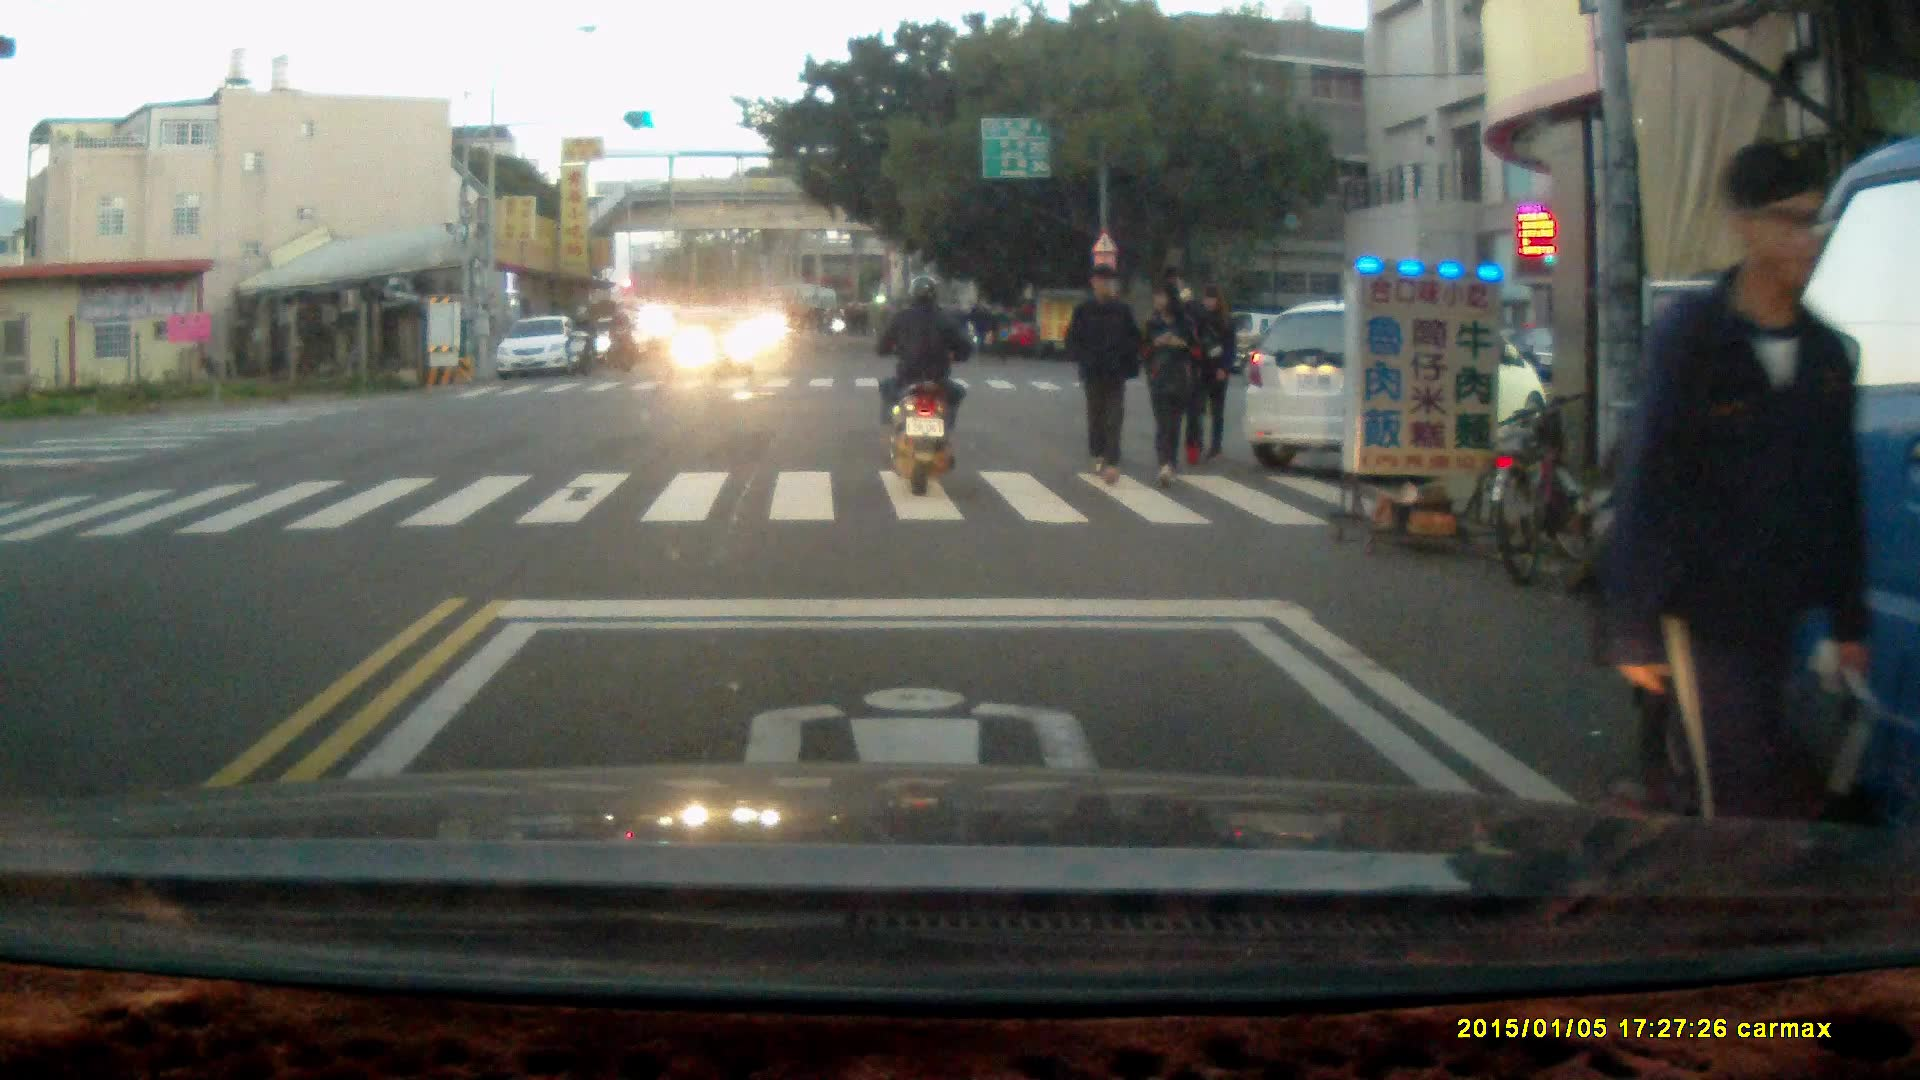pedestrian: (1601, 127, 1862, 879), (1065, 261, 1139, 484), (1138, 275, 1204, 485), (1193, 283, 1244, 464)
rider: (875, 267, 979, 495), (564, 301, 595, 377), (605, 300, 636, 370)
vehicle: (1628, 139, 1920, 875), (1243, 303, 1559, 469), (658, 312, 761, 381), (498, 310, 590, 376)
